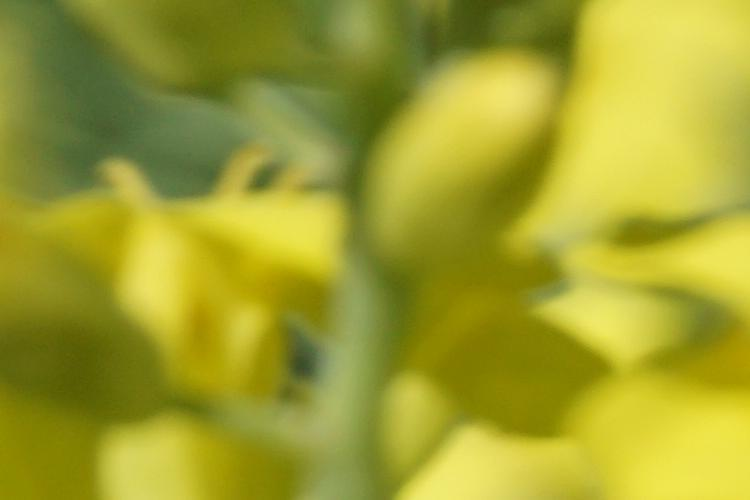bud: (358, 62, 558, 273)
